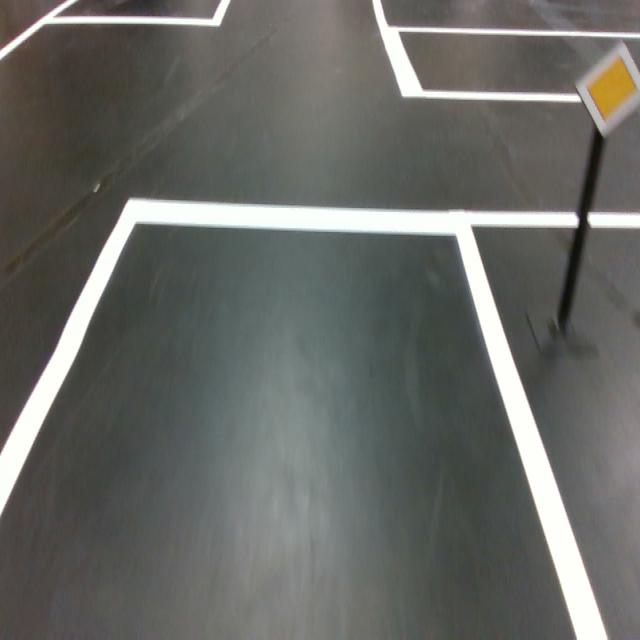priority-sign: (572, 40, 640, 140)
